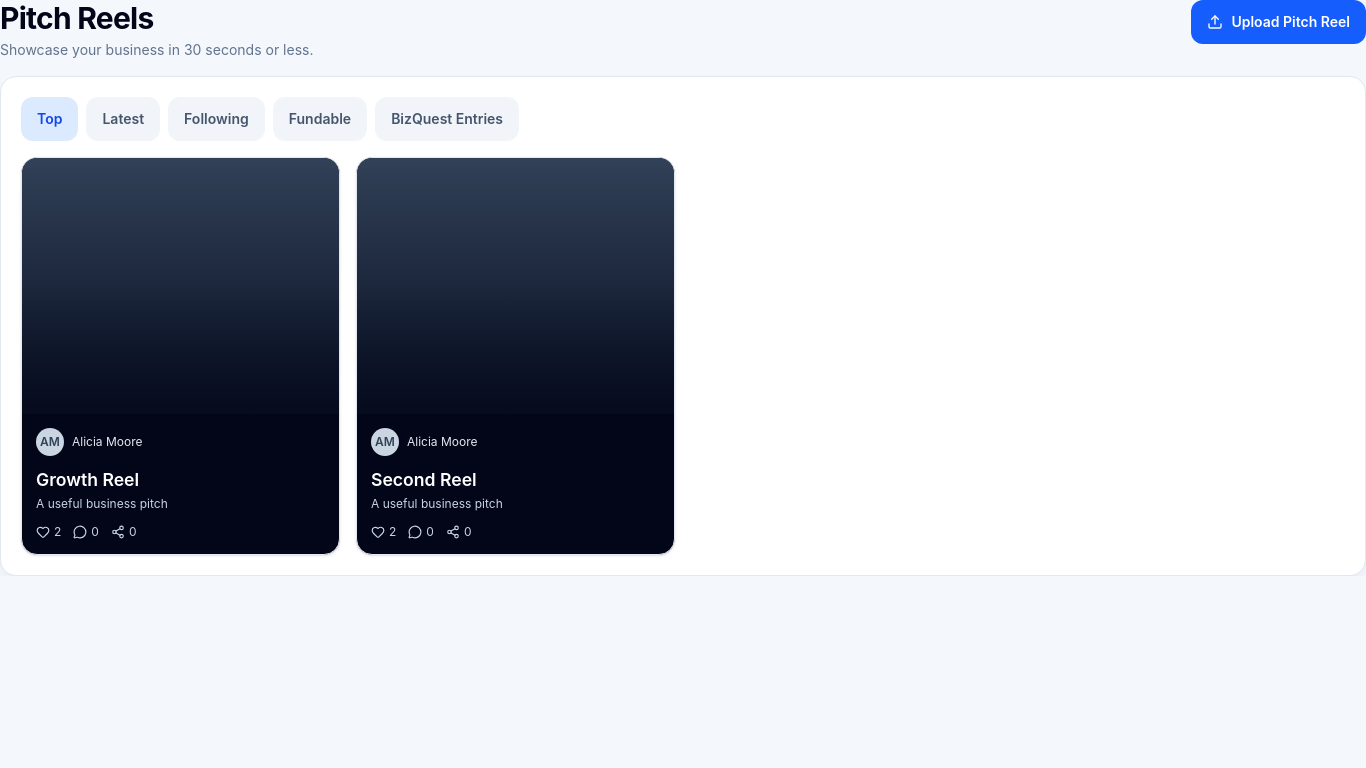
PitchReelsPage interactions › keeps next navigation synchronized with the Reel detail route
This screenshot has width=1366, height=768.
Click the button with aria-label "open pitch reel: growth reel".
click(180, 356)  # box 21,157 -> 340,555
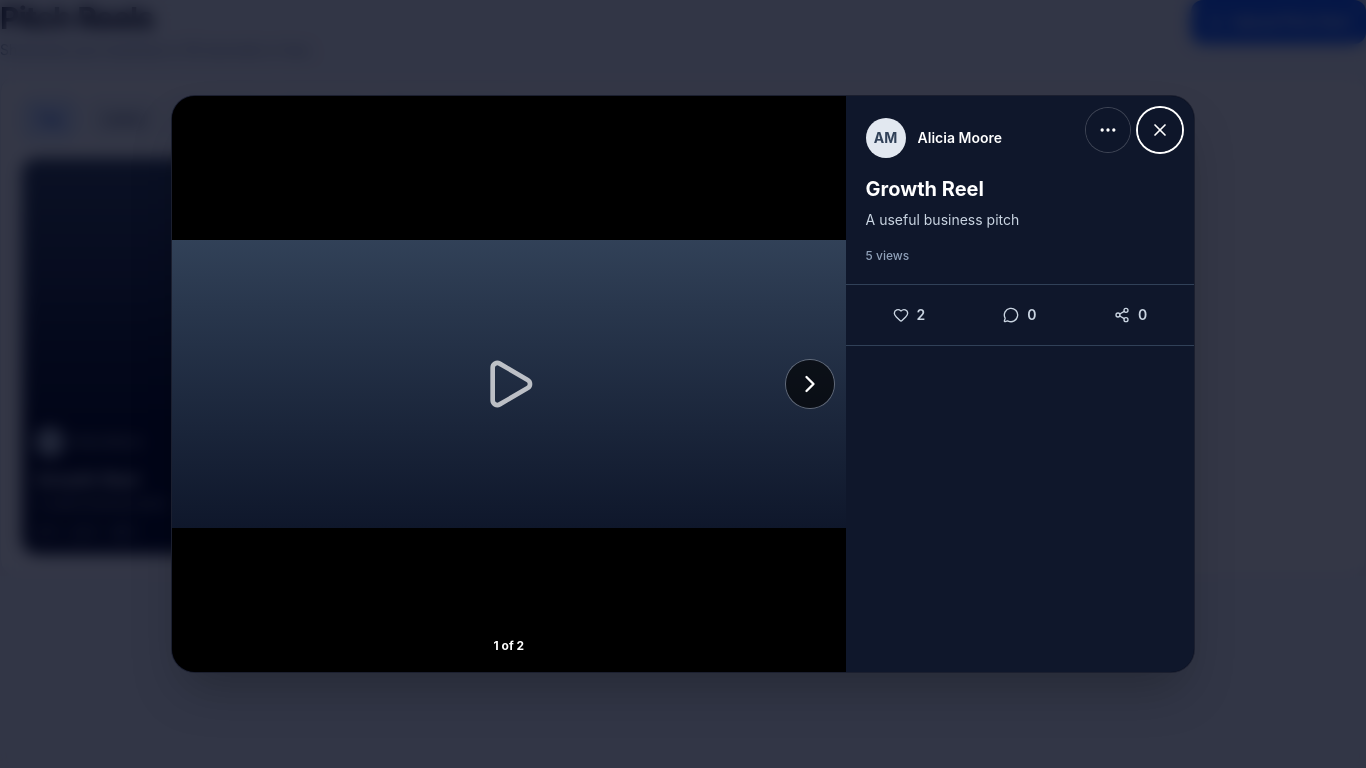
Expected: the dialog "Growth Reel" is shown
Click the button named "View next Reel".
click(810, 384)  # box 786,360 -> 834,408
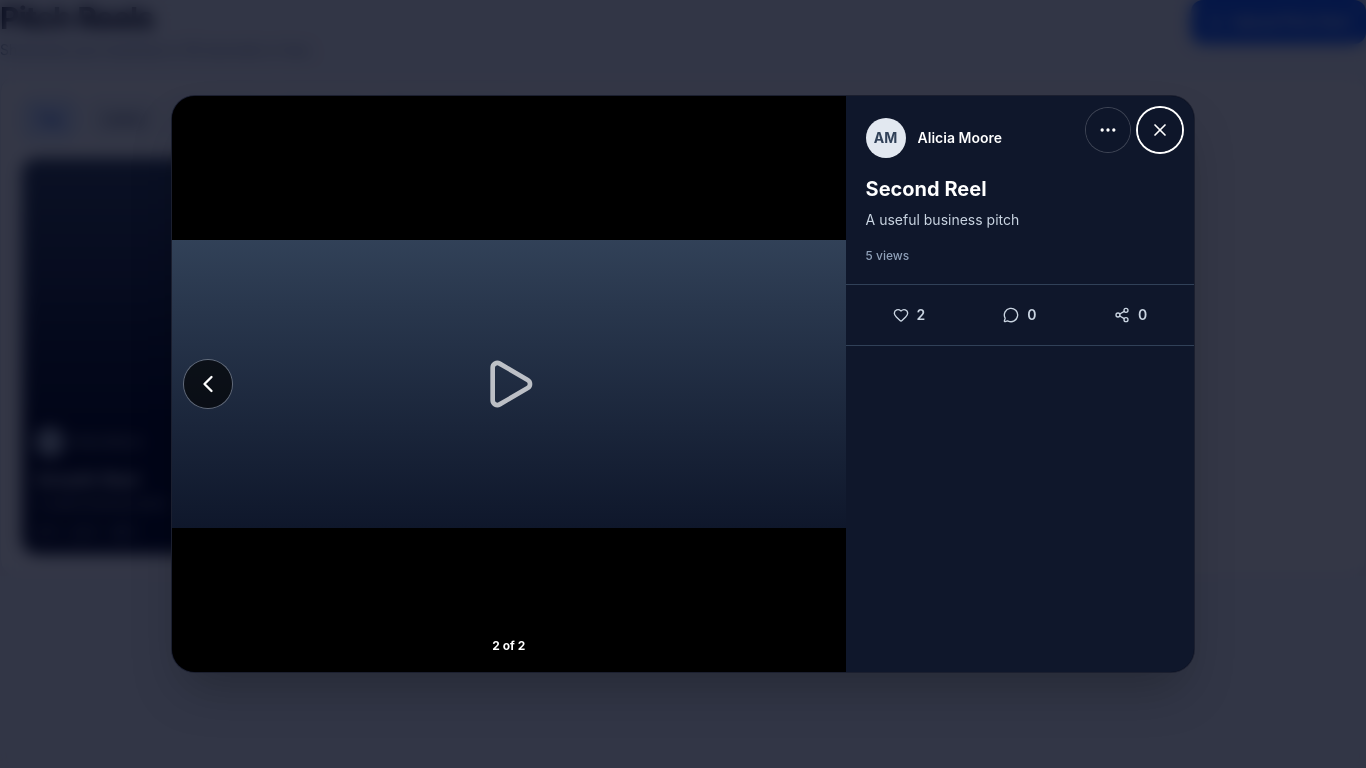
Expected: the dialog "Second Reel" is shown
Expected: the text "2 of 2" is shown, 480,632 -> 537,660
